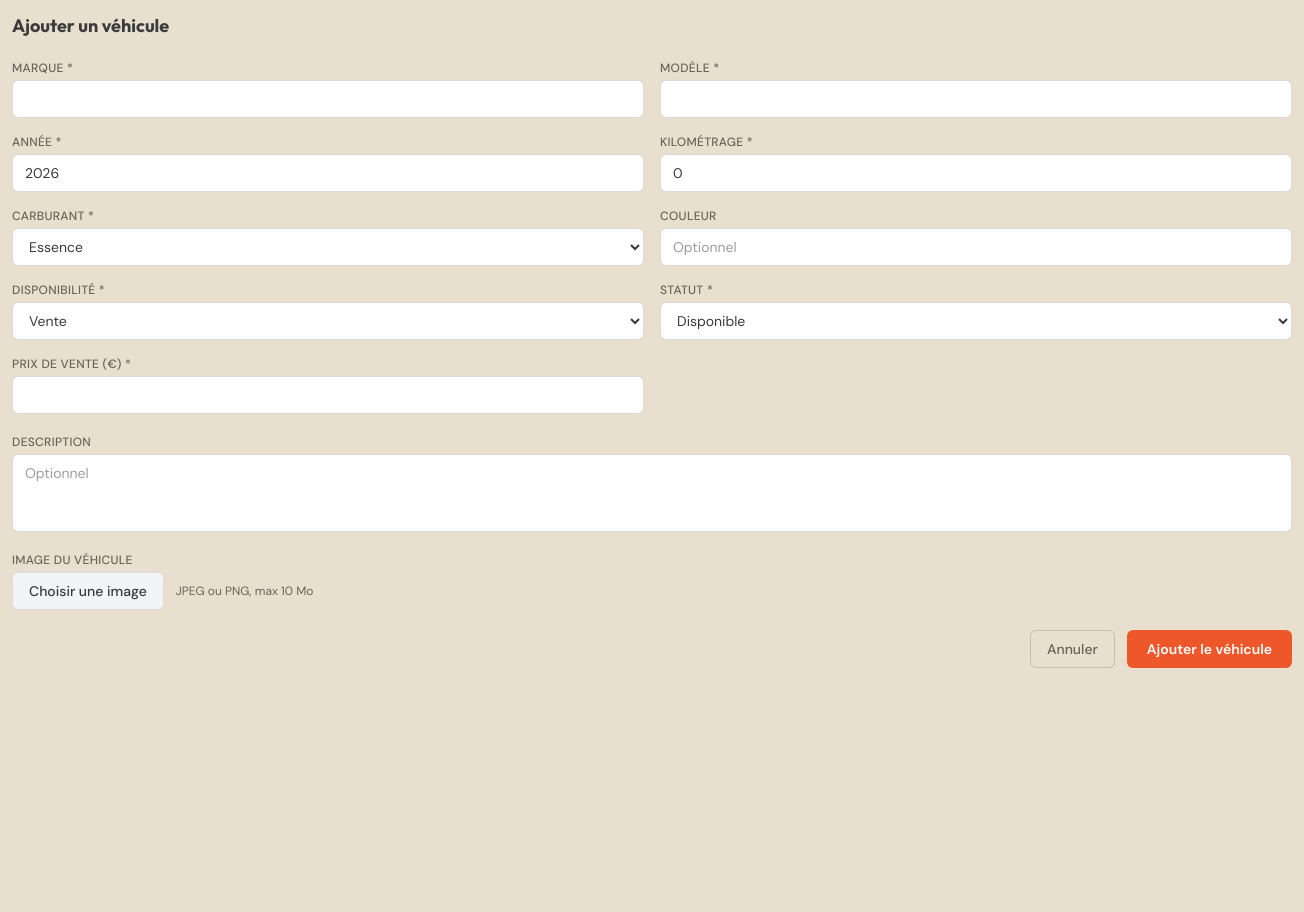
it: VehicleForm — mode création › affiche les deux prix quand BOTH sélectionné
The image size is (1304, 912).
Select "Vente & Location" in the dropdown showing "Vente" below "Disponibilité *" at (328, 321), box [12,302,644,340]
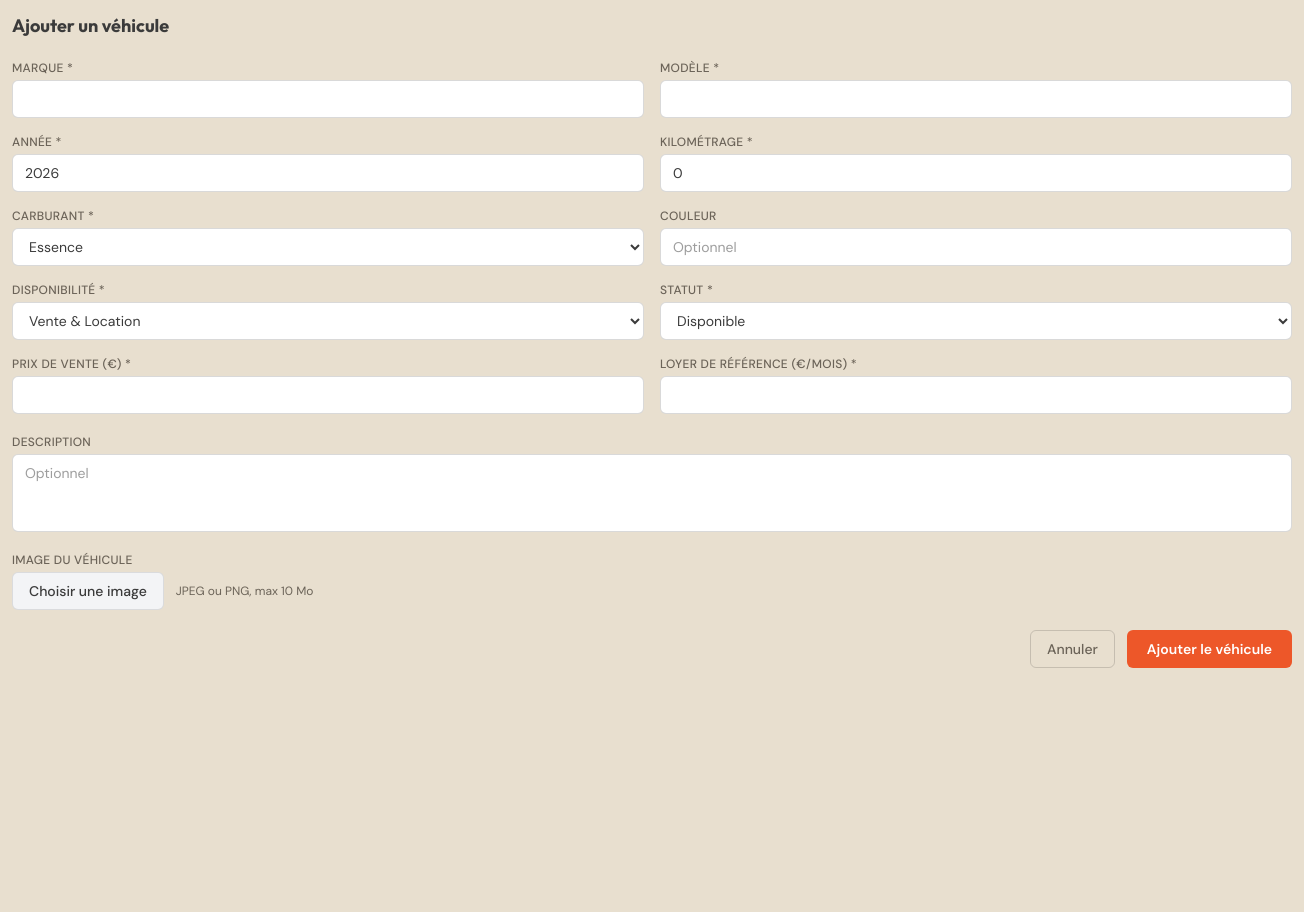
Check: the text "Prix de vente (€) *" is shown, box [12,356,131,372]
Check: the text "Loyer de référence (€/mois) *" is shown, box [660,356,857,372]
